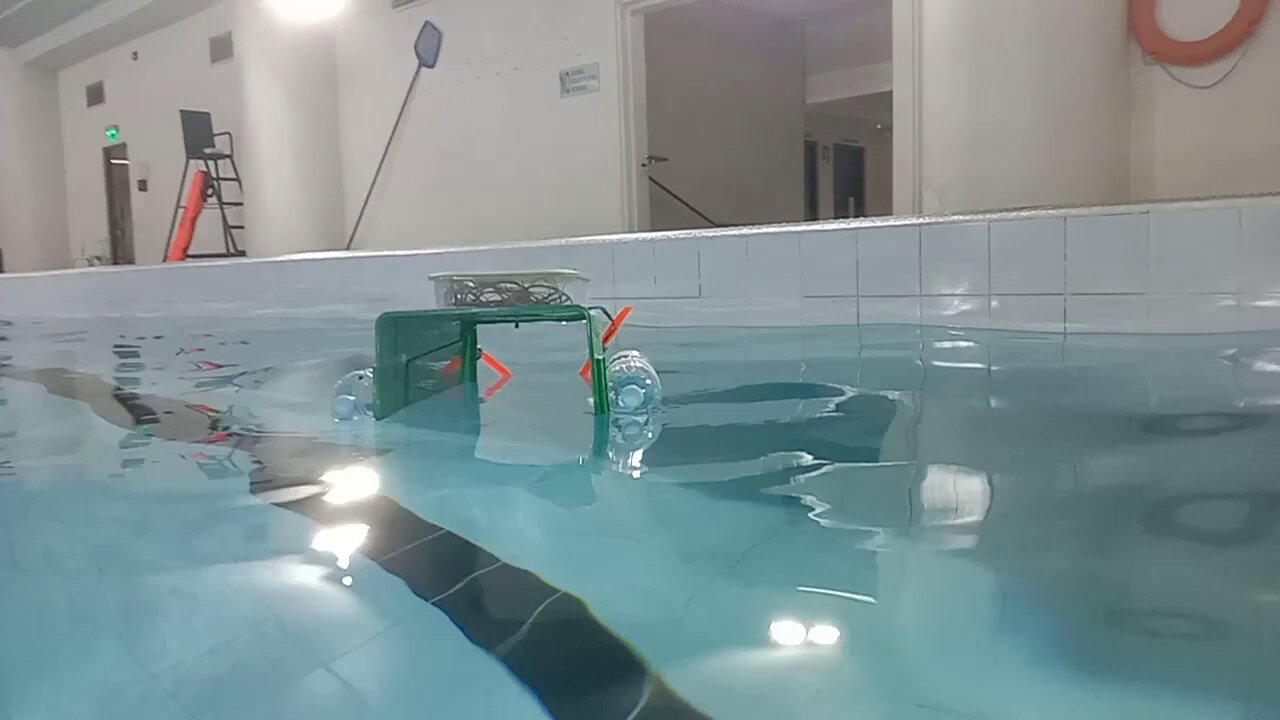drone: (331, 268, 664, 426)
